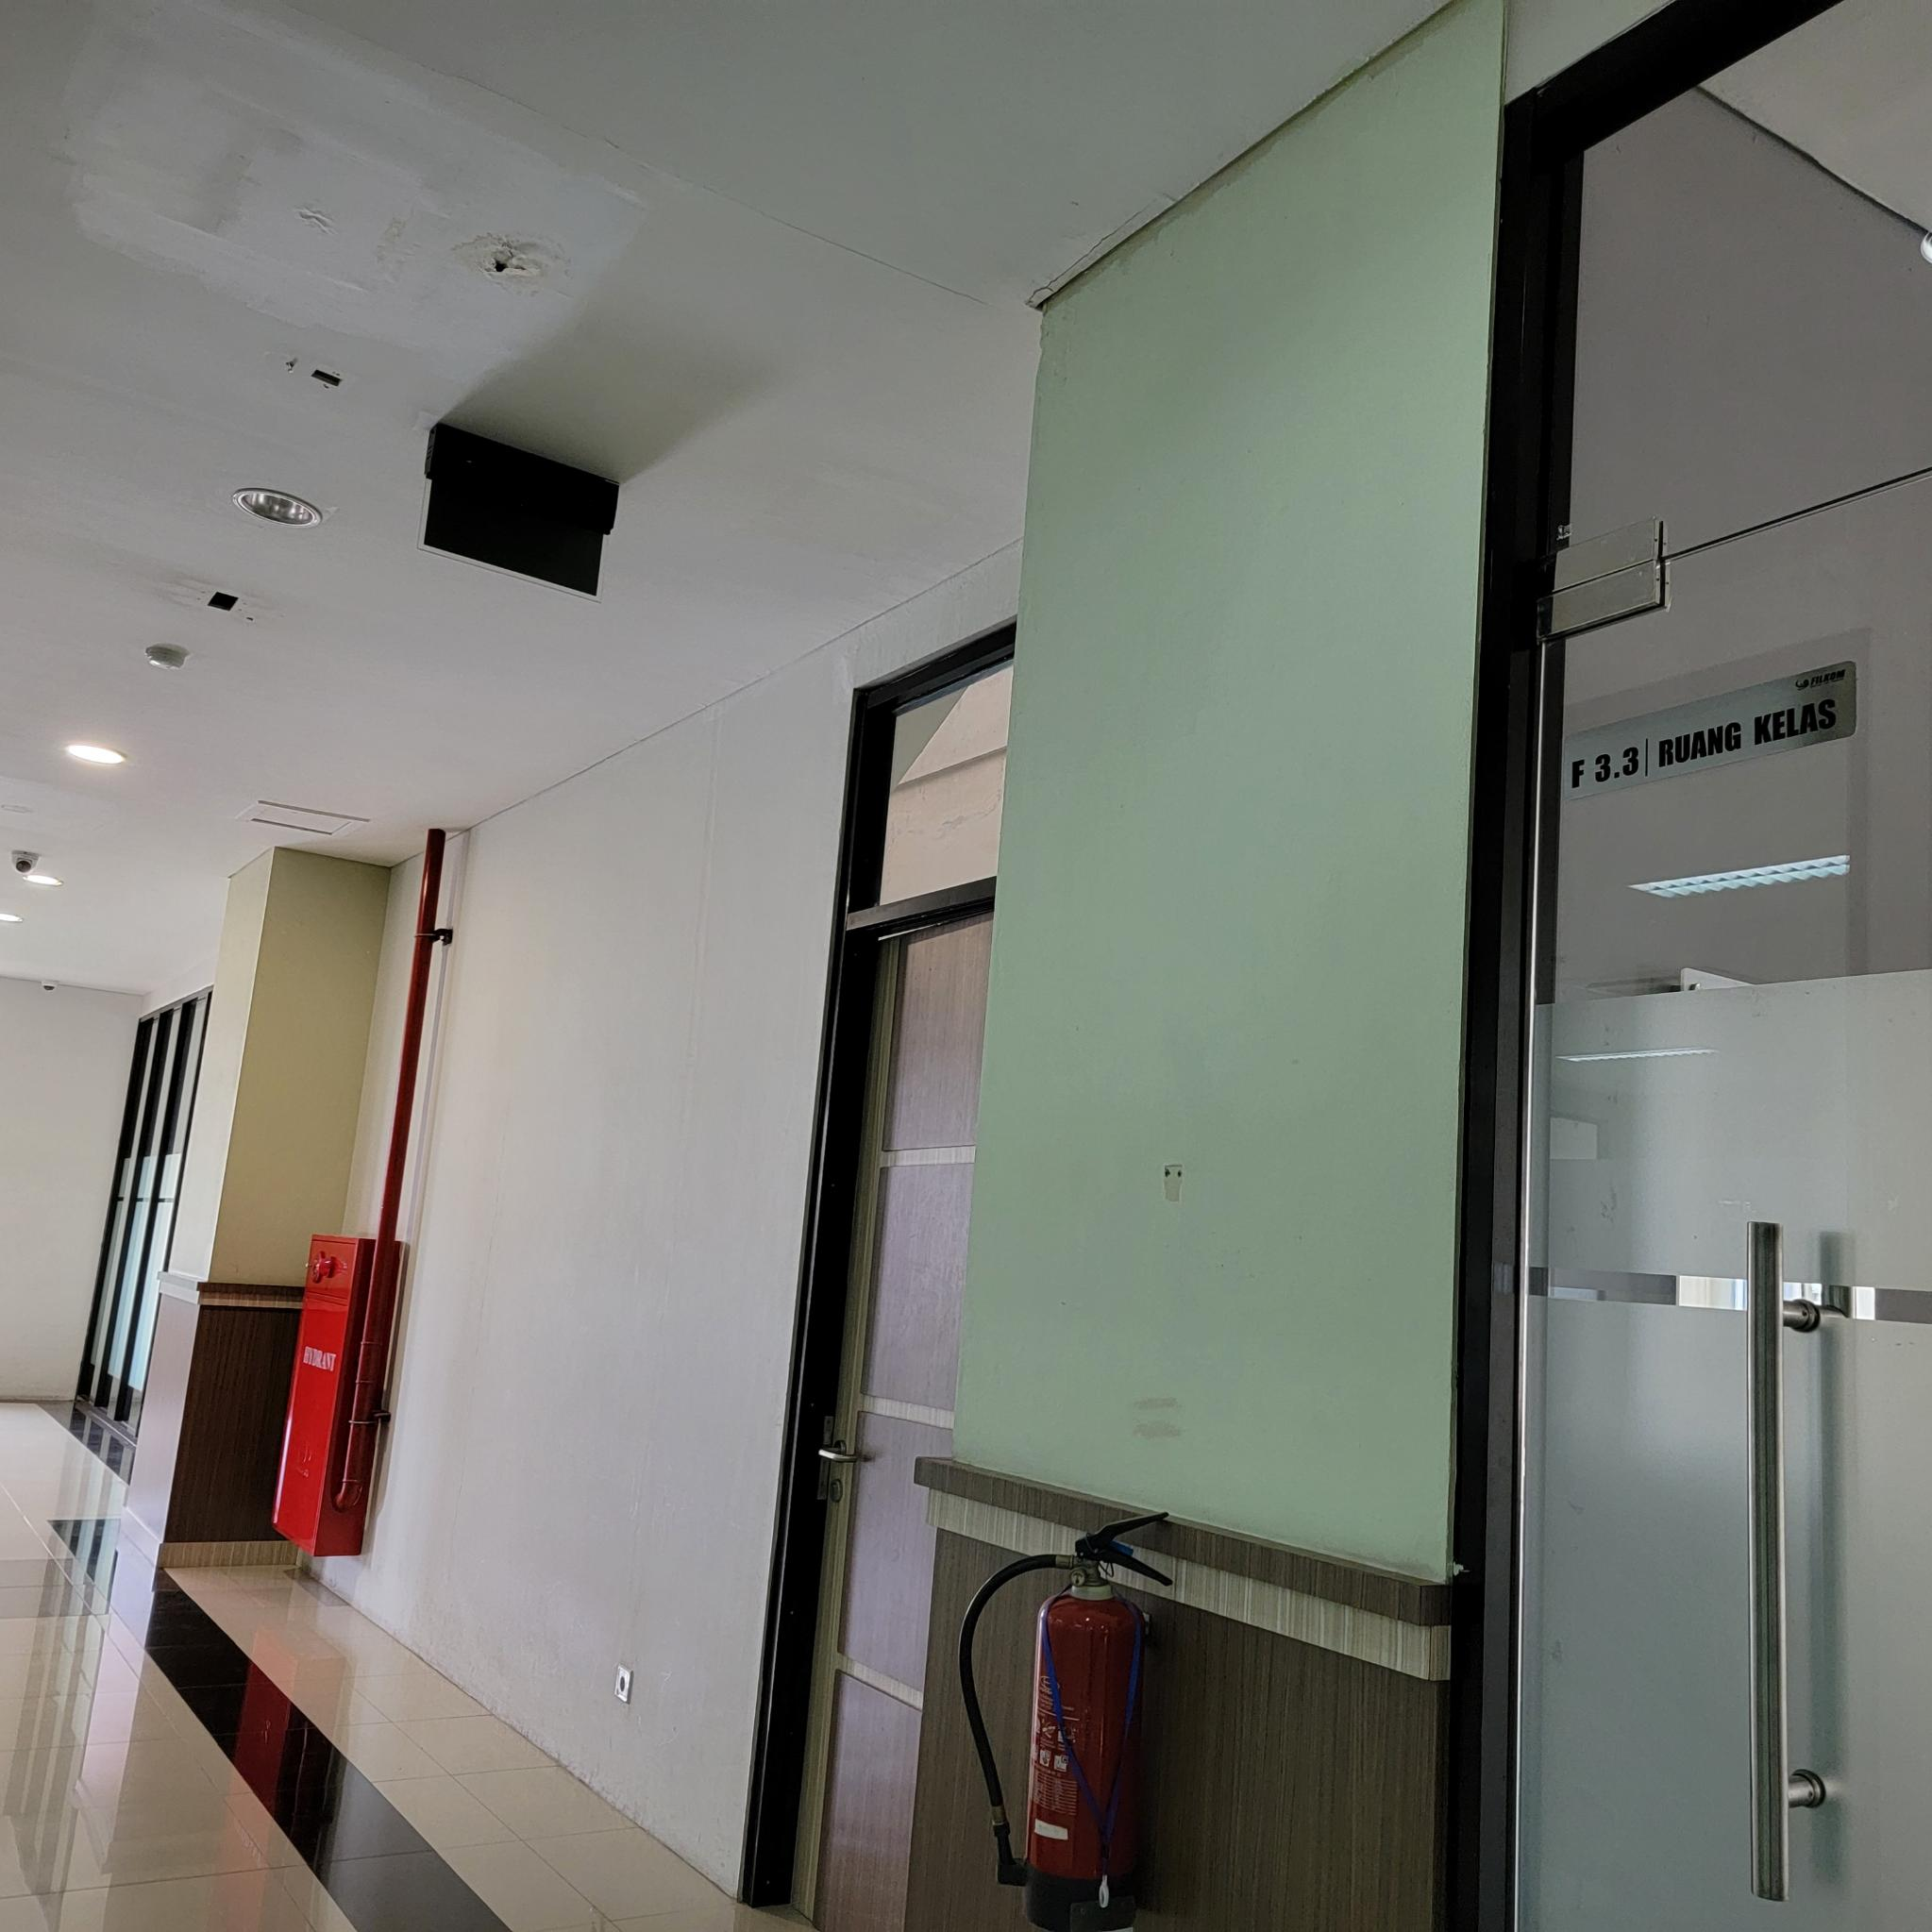plate: (1562, 662, 1858, 800)
